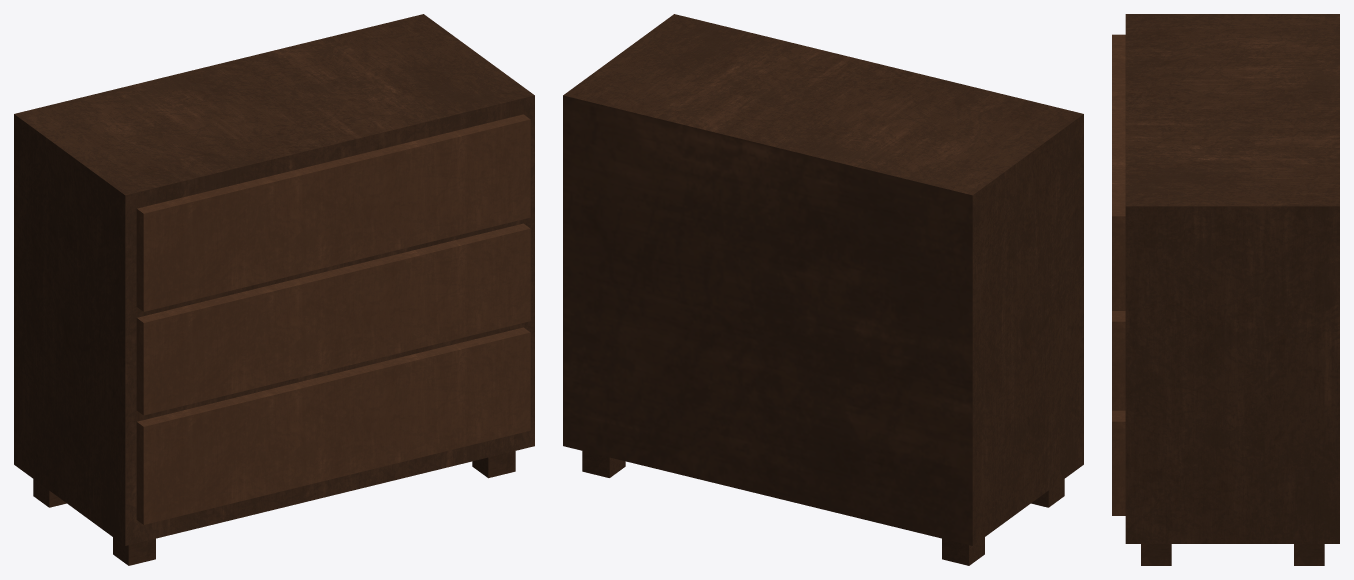
File: master drawer.FBX
The picture shows the model from 3 angles, left to right: view 1: azimuth 30°, elevation 25°; view 2: azimuth 150°, elevation 25°; view 3: azimuth 270°, elevation 25°; orthographic projection. The views are drawn at different scales.
Parts seen in each view (by area): view 1: master drawer; view 2: master drawer; view 3: master drawer.
Part boxes in pixels (bbox=[...]): master drawer: bbox=[14, 14, 534, 565]; master drawer: bbox=[563, 14, 1083, 565]; master drawer: bbox=[1112, 14, 1339, 565].
Size of the model in its own units: 90.2 by 79.77 by 45.11.
1 material, 1 textured.
